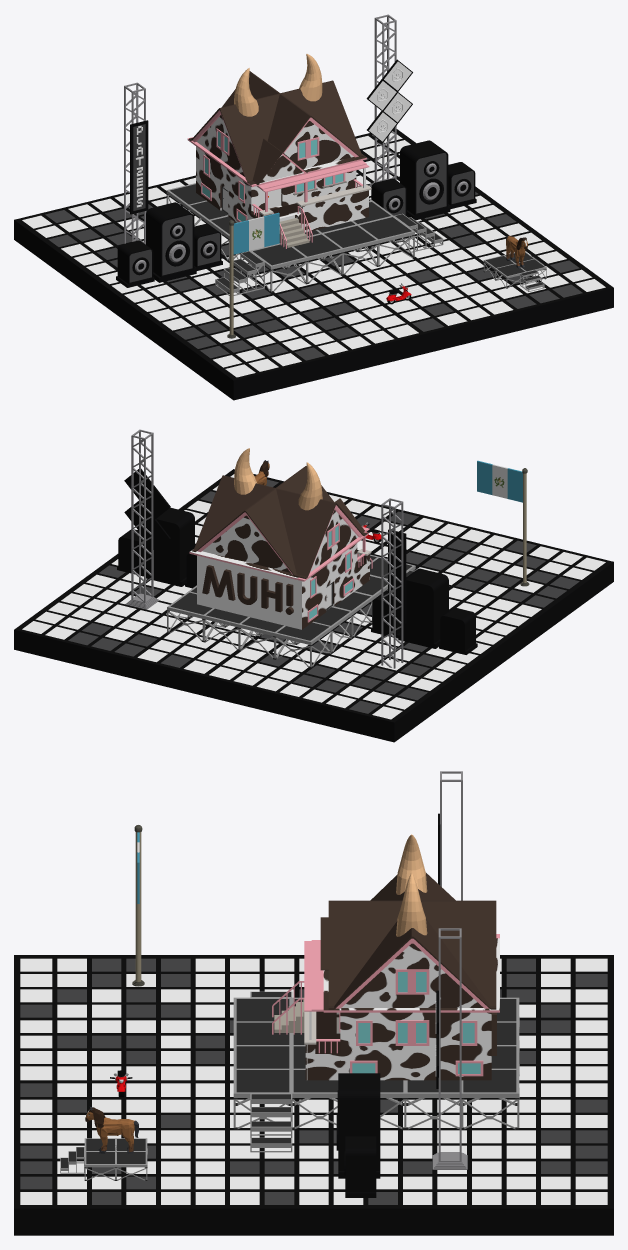
The picture shows the model from 3 angles, top to bottom: view 1: azimuth 30°, elevation 25°; view 2: azimuth 150°, elevation 25°; view 3: azimuth 270°, elevation 25°; orthographic projection. The views are drawn at different scales.
Parts seen in each view (by area): view 1: Cube.008, Cube.1242, OBJRANDOM_GUATEMALAN_FLAG, ANIMAL_CABALLO; view 2: Cube.008, Cube.1242, OBJRANDOM_GUATEMALAN_FLAG; view 3: Cube.008, Cube.1242, ANIMAL_CABALLO, OBJRANDOM_GUATEMALAN_FLAG.
Boxes of the visible parts, left/top/right/bottom form: Cube.008: left=14, top=14, right=613, bottom=400; Cube.1242: left=187, top=54, right=371, bottom=248; OBJRANDOM_GUATEMALAN_FLAG: left=227, top=212, right=279, bottom=338; ANIMAL_CABALLO: left=506, top=235, right=527, bottom=268; Cube.008: left=14, top=429, right=613, bottom=742; Cube.1242: left=189, top=448, right=372, bottom=629; OBJRANDOM_GUATEMALAN_FLAG: left=477, top=460, right=529, bottom=586; Cube.008: left=14, top=771, right=613, bottom=1235; Cube.1242: left=272, top=834, right=499, bottom=1080; ANIMAL_CABALLO: left=85, top=1107, right=138, bottom=1153; OBJRANDOM_GUATEMALAN_FLAG: left=132, top=825, right=144, bottom=986.
Bounding box in the file's own units: 4000 × 1922 × 4000.
45 materials, 2 textured.
